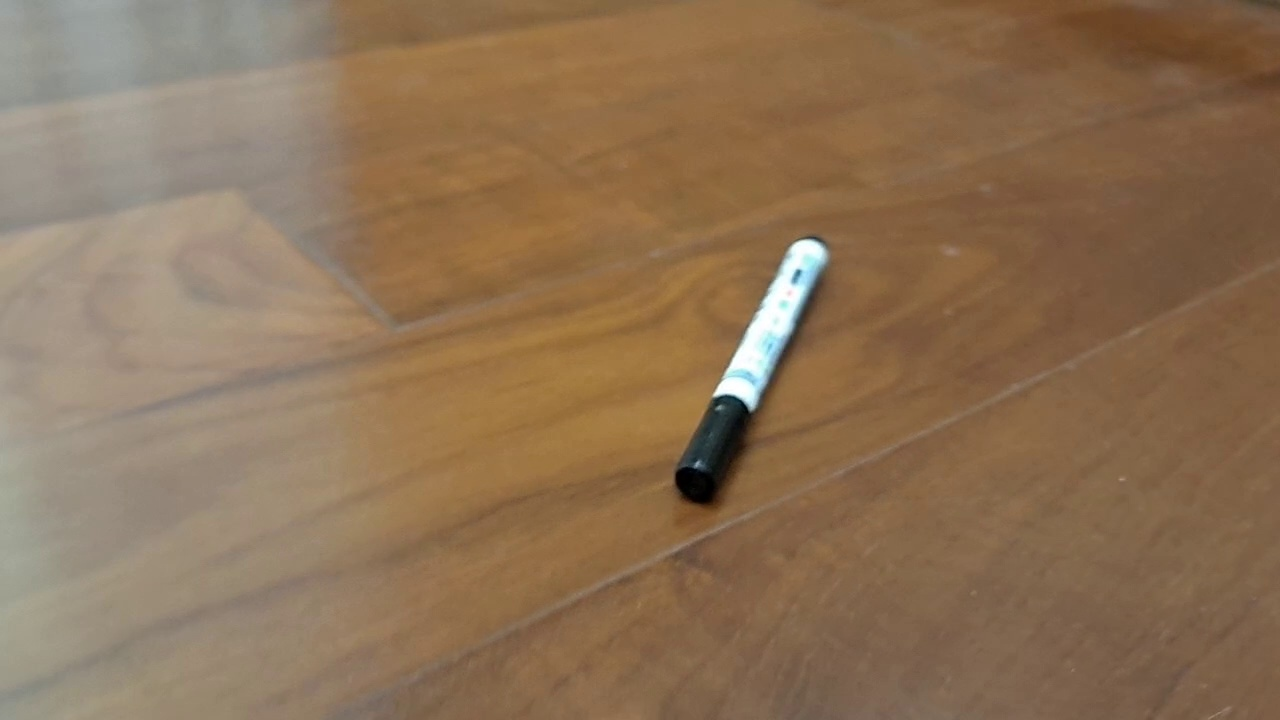pen: (673, 234, 831, 505)
